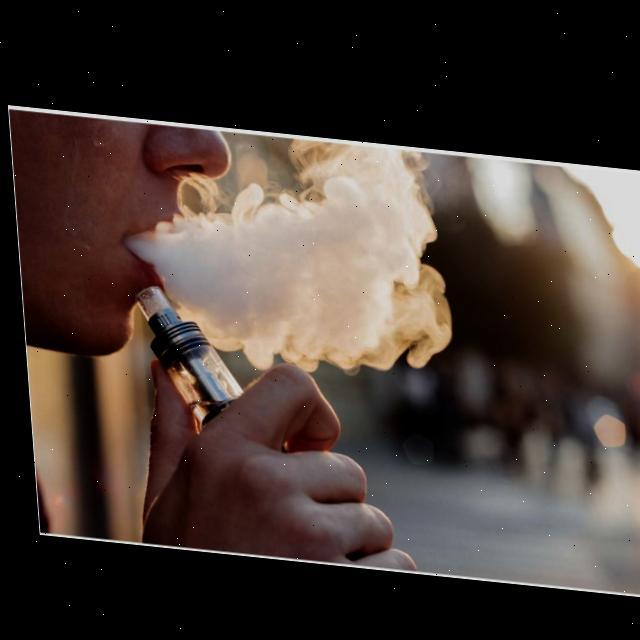vape: (130, 281, 240, 424)
